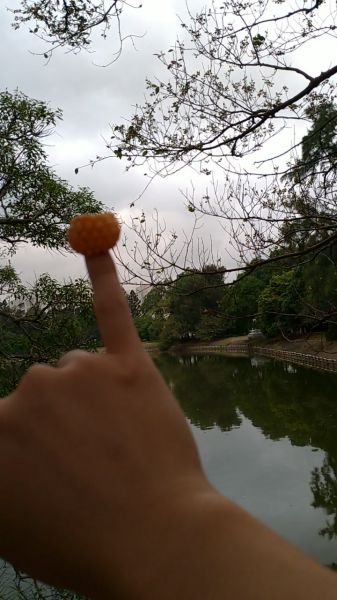eggs: (68, 211, 120, 257)
